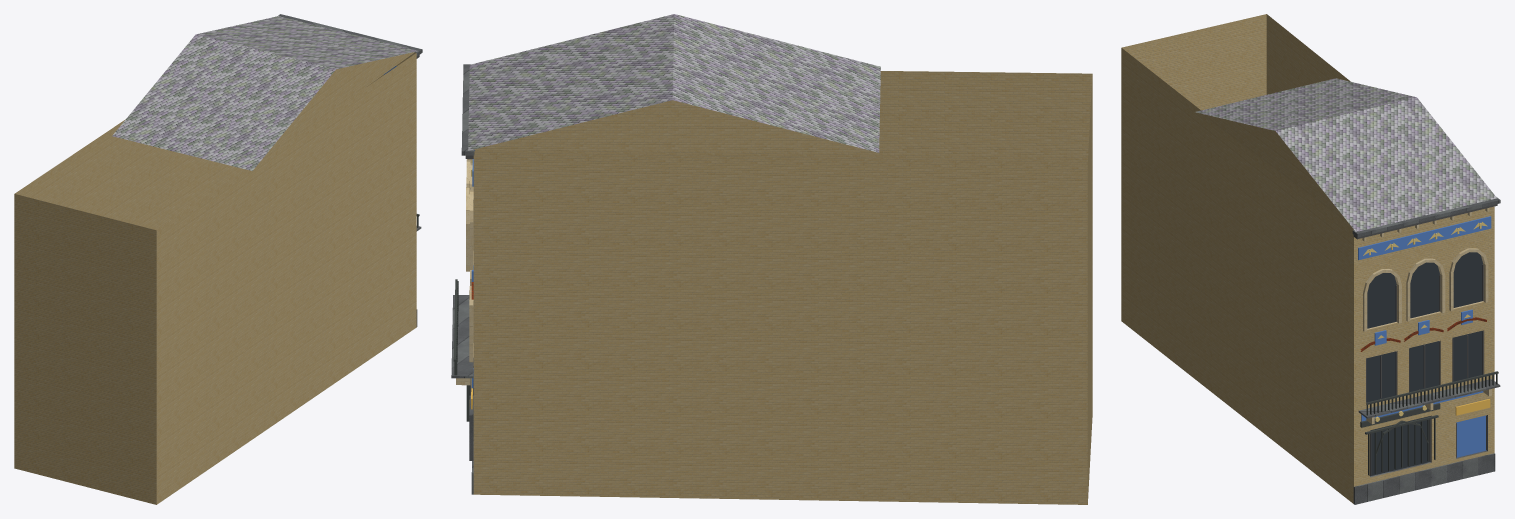
The picture shows the model from 3 angles, left to right: view 1: azimuth 30°, elevation 25°; view 2: azimuth 150°, elevation 25°; view 3: azimuth 270°, elevation 25°; orthographic projection. The views are drawn at different scales.
Parts seen in each view (by area): view 1: bldg_501637652_landmark; view 2: bldg_501637652_landmark; view 3: bldg_501637652_landmark.
Boxes of the visible parts, box(x1,y1,x2,y2) form: bldg_501637652_landmark: box(14, 14, 422, 504); bldg_501637652_landmark: box(451, 14, 1092, 504); bldg_501637652_landmark: box(1121, 14, 1500, 504).
Bounding box in the file's own units: 23 × 15.2 × 16.58.
11 materials, 5 textured.
